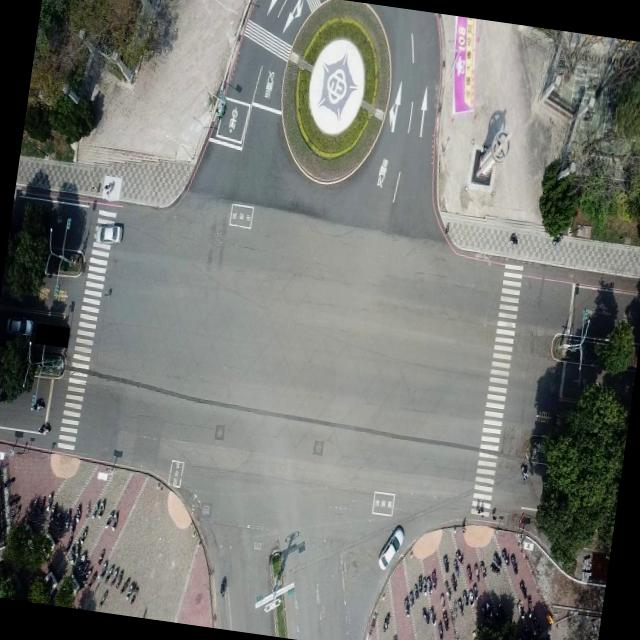bike: (34, 420, 55, 434), (37, 393, 49, 413)
car: (376, 522, 406, 574), (94, 219, 125, 246)
